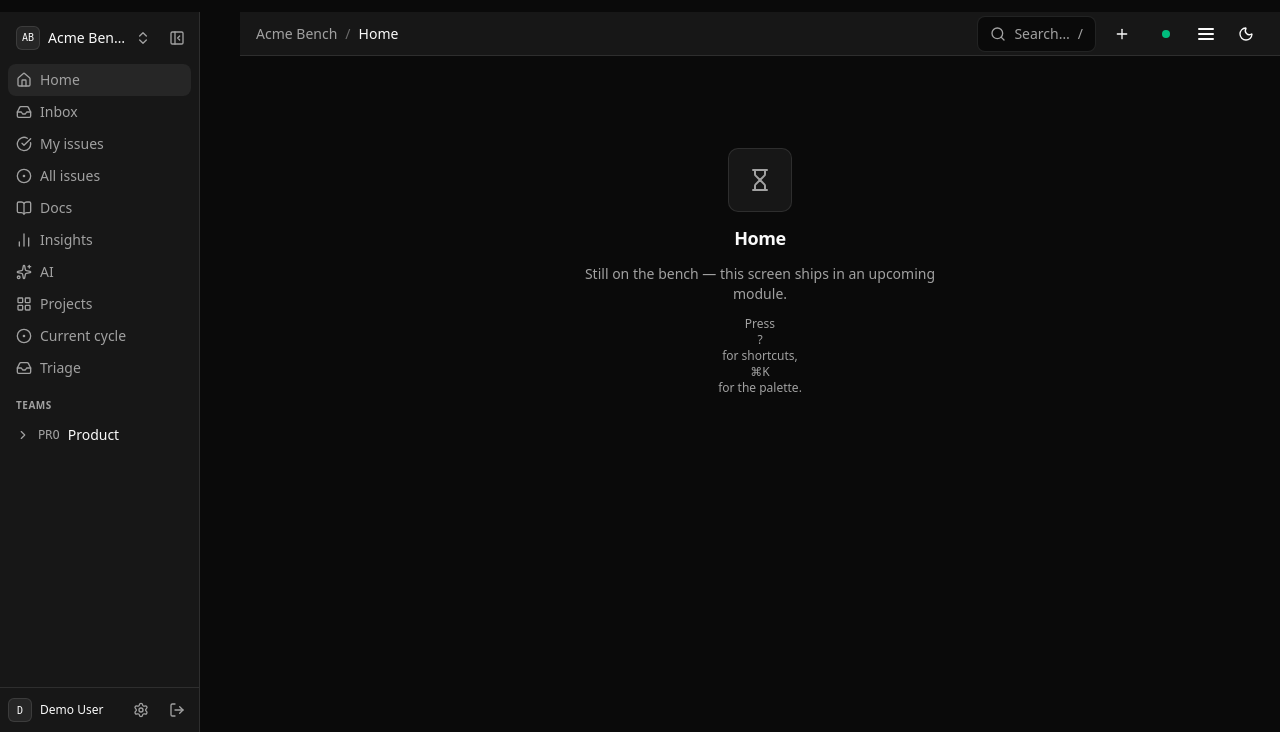
Test case: projects list › groups by status and gives each row its own cached percent
Step 1. Click the link "Projects" → (54, 304), box 16,294 -> 92,313
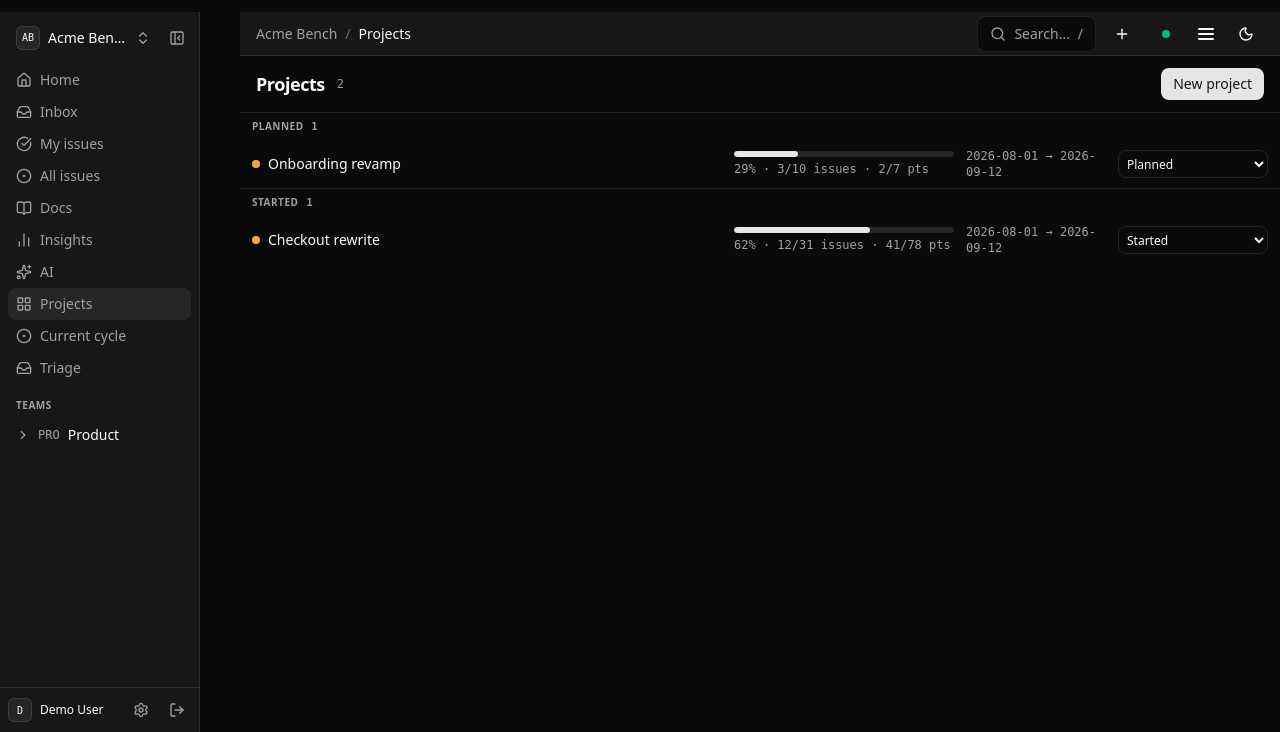
Now the heading "Projects" is shown, box 256,70 -> 325,98
Now the link "Checkout rewrite" is shown, box 268,230 -> 380,250
Now the link "Onboarding revamp" is shown, box 268,154 -> 401,174
